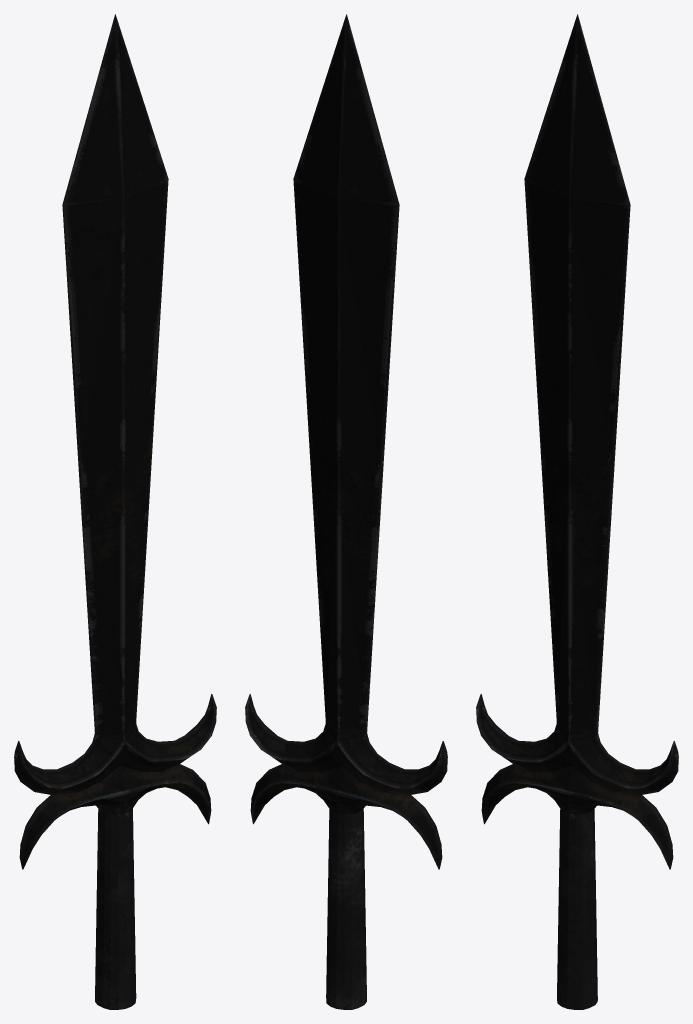
Rendered from AshiSword.fbx.
3 renders of one model, left to right at view 1: azimuth 30°, elevation 25°; view 2: azimuth 150°, elevation 25°; view 3: azimuth 330°, elevation 25°, orthographic.
Parts seen in each view (by area): view 1: SM_WEP_DarkAshiSword.mo; view 2: SM_WEP_DarkAshiSword.mo; view 3: SM_WEP_DarkAshiSword.mo.
Part boxes in pixels (x1,y1,x2,y2): SM_WEP_DarkAshiSword.mo: [14, 14, 216, 1009]; SM_WEP_DarkAshiSword.mo: [245, 14, 447, 1009]; SM_WEP_DarkAshiSword.mo: [476, 14, 678, 1009].
Bounding box in the file's own units: 23.21 × 108 × 4.15.
Materials: 1 (1 with a texture image).
